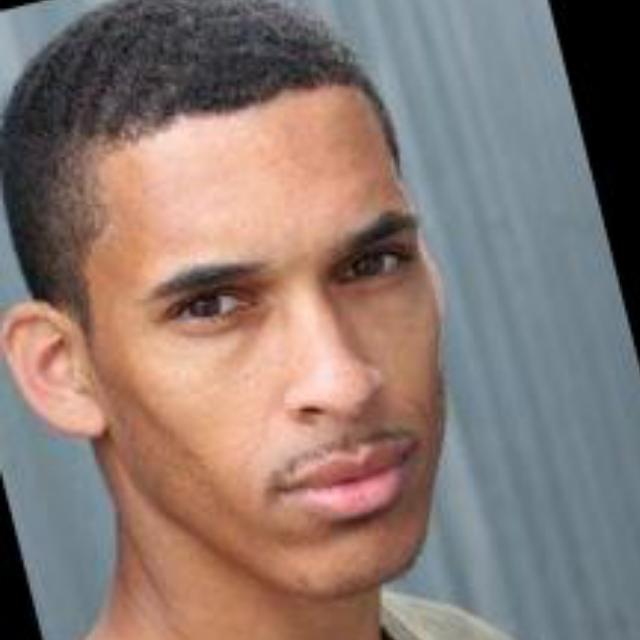Natural: (65, 116, 480, 603)
